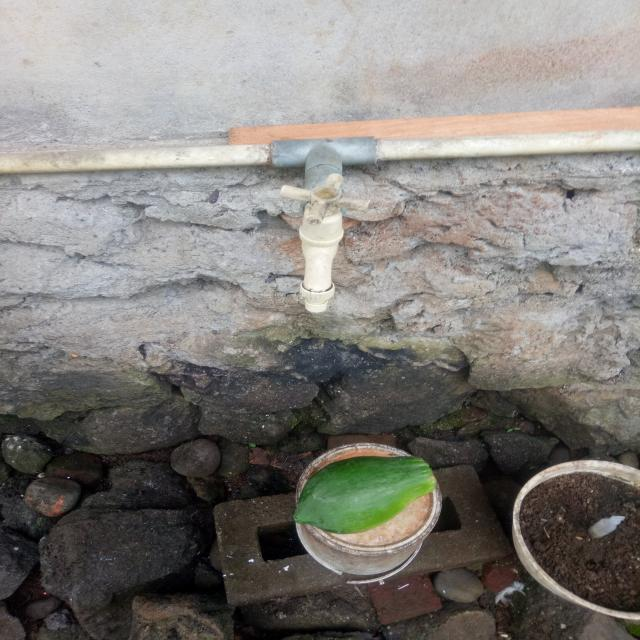Pepaya unrippen: (286, 451, 445, 532)
